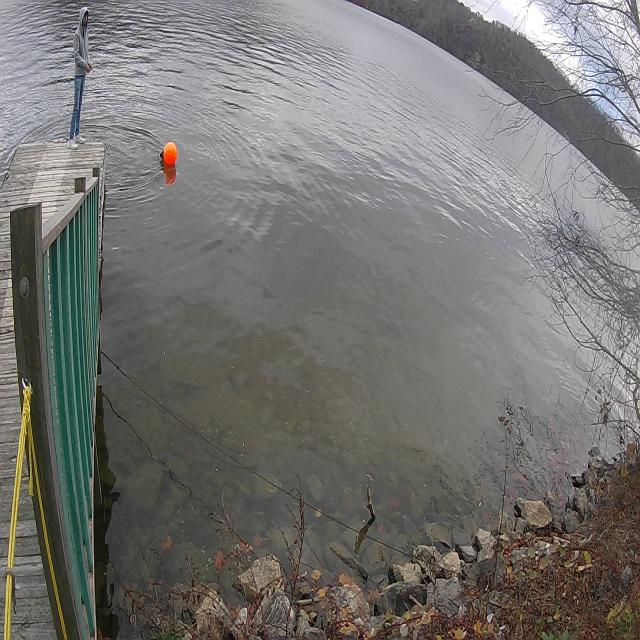Buoy: (154, 134, 182, 174)
